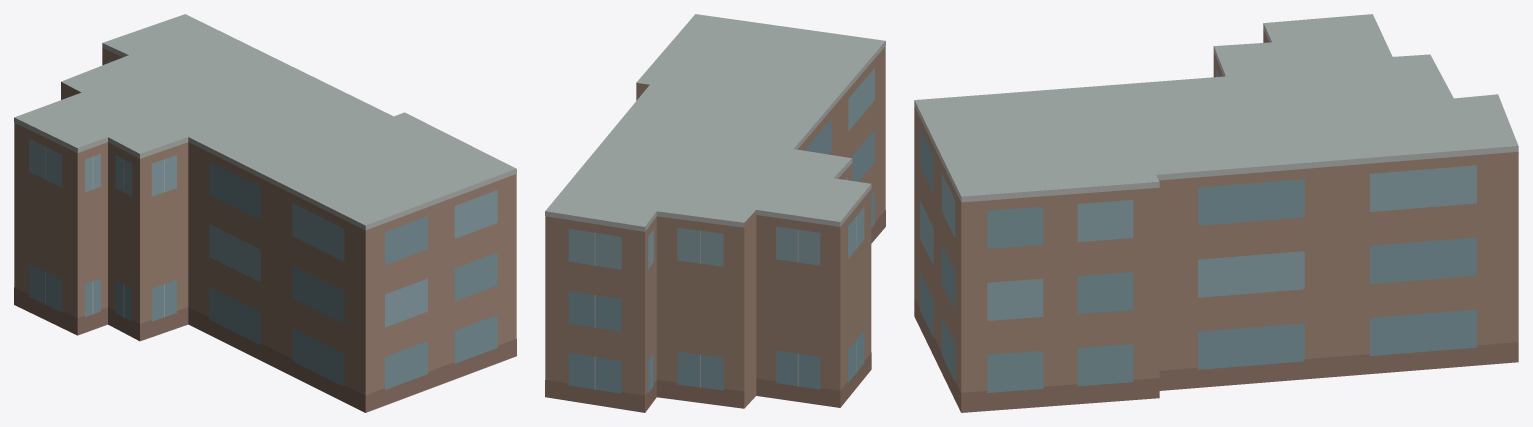
Rendered from survey-upis-33006132.glb.
The picture shows the model from 3 angles, left to right: view 1: azimuth 30°, elevation 25°; view 2: azimuth 150°, elevation 25°; view 3: azimuth 270°, elevation 25°; orthographic projection. The views are drawn at different scales.
Parts seen in each view (by area): view 1: survey-upis-33006132.tmp; view 2: survey-upis-33006132.tmp; view 3: survey-upis-33006132.tmp.
Boxes of the visible parts, <box> form: survey-upis-33006132.tmp: <box>14,14,516,412</box>; survey-upis-33006132.tmp: <box>545,14,885,412</box>; survey-upis-33006132.tmp: <box>914,14,1518,412</box>.
Size of the model in its own units: 16.59 by 9.15 by 23.18.
